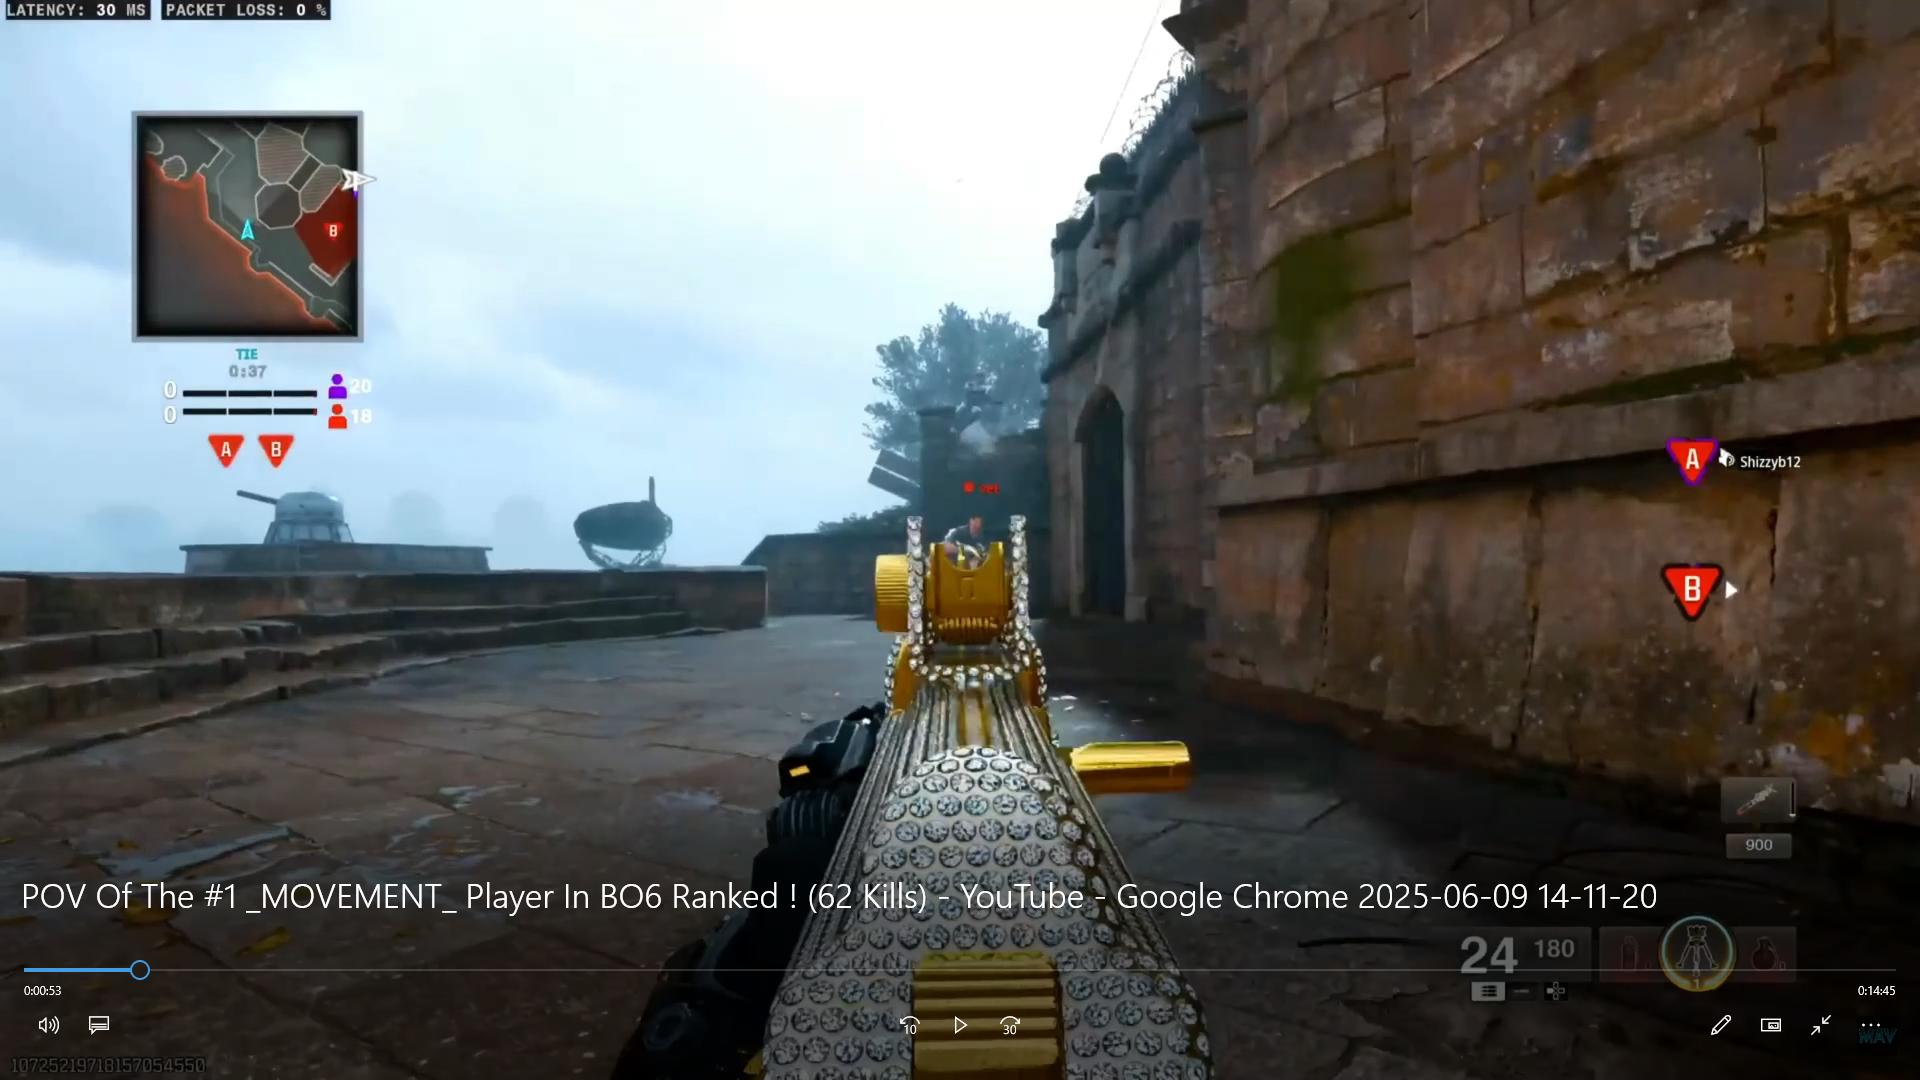Enemy: (948, 502, 994, 554)
